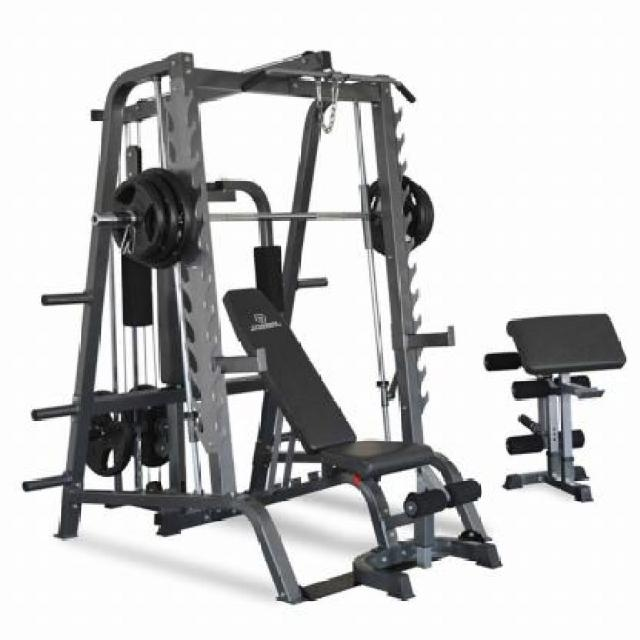smith machine: (24, 48, 484, 608)
